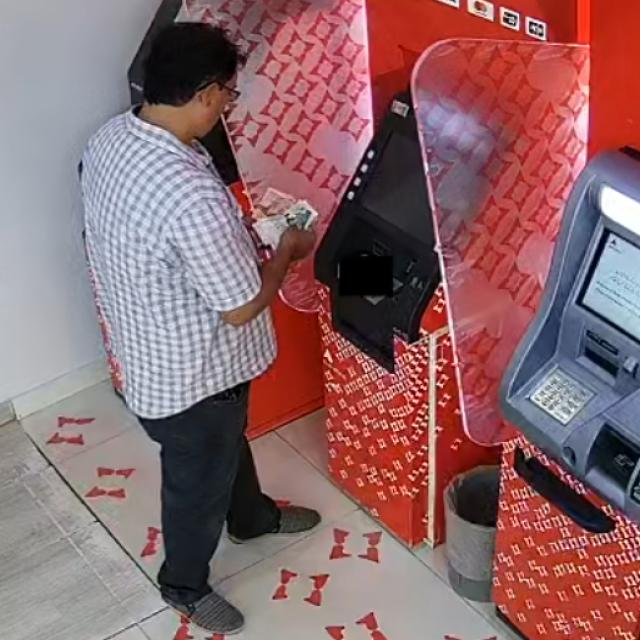note: (244, 180, 325, 254)
